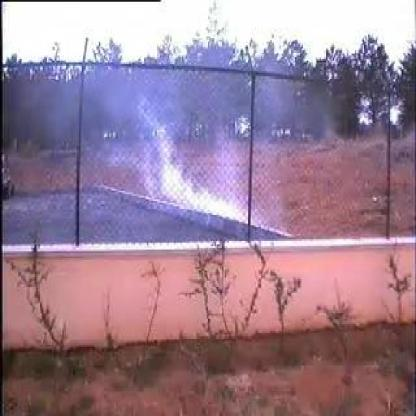-: (124, 94, 252, 218)
